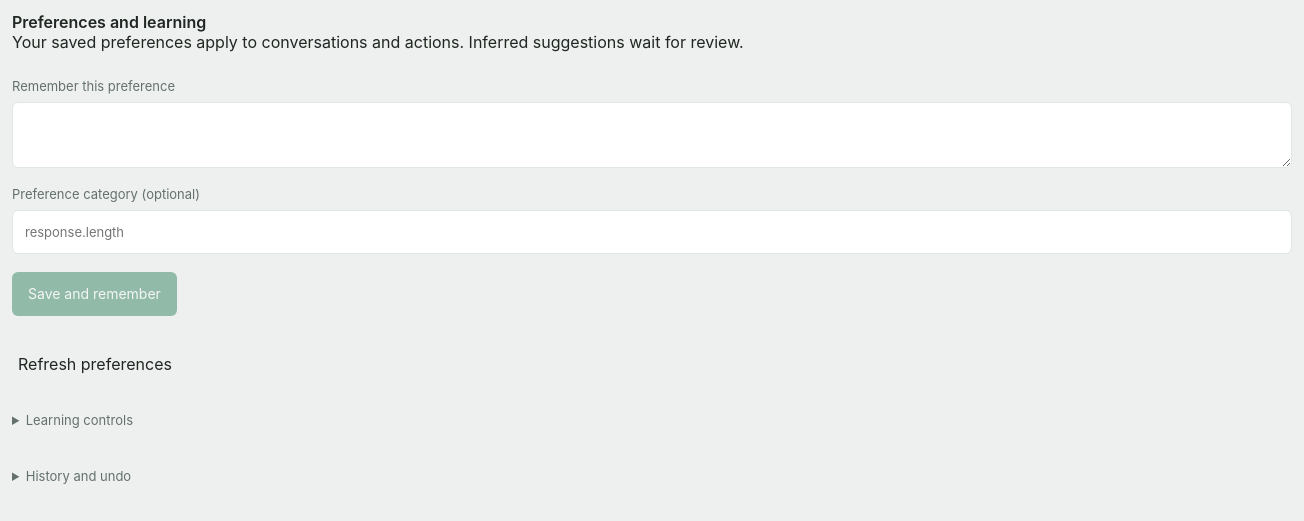
Test case: shows a recoverable save failure without losing the preference
The image size is (1304, 521).
Type "Use metric units" into the text box named "Adaptive rule". click: (652, 135)
box: x1=12 y1=102 x2=1292 y2=168
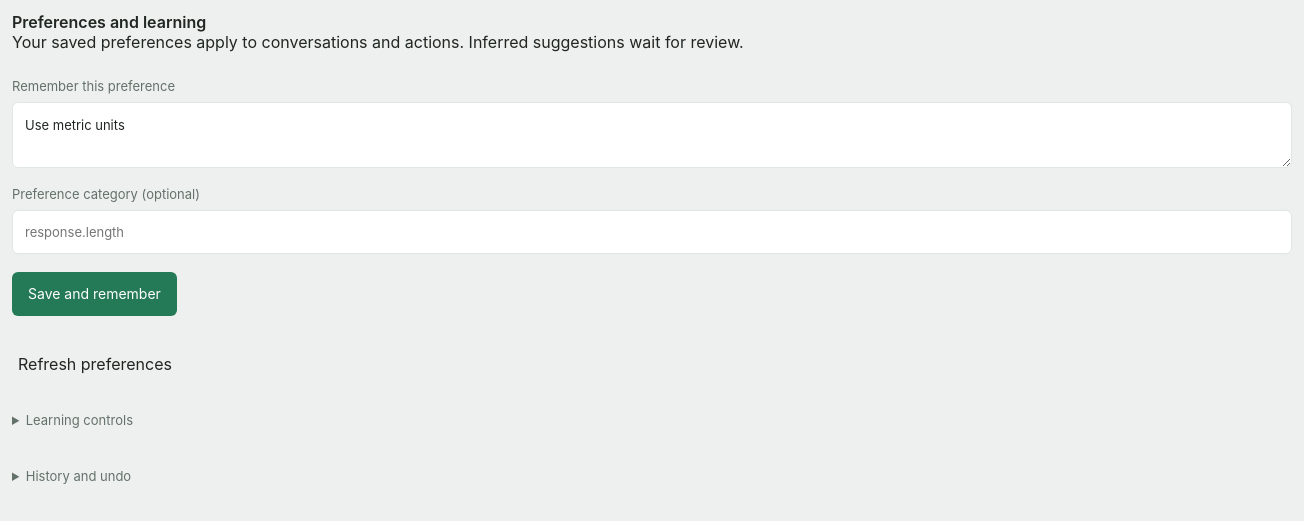
Click the button "Save and remember". click: (94, 294)
box: x1=12 y1=272 x2=177 y2=316
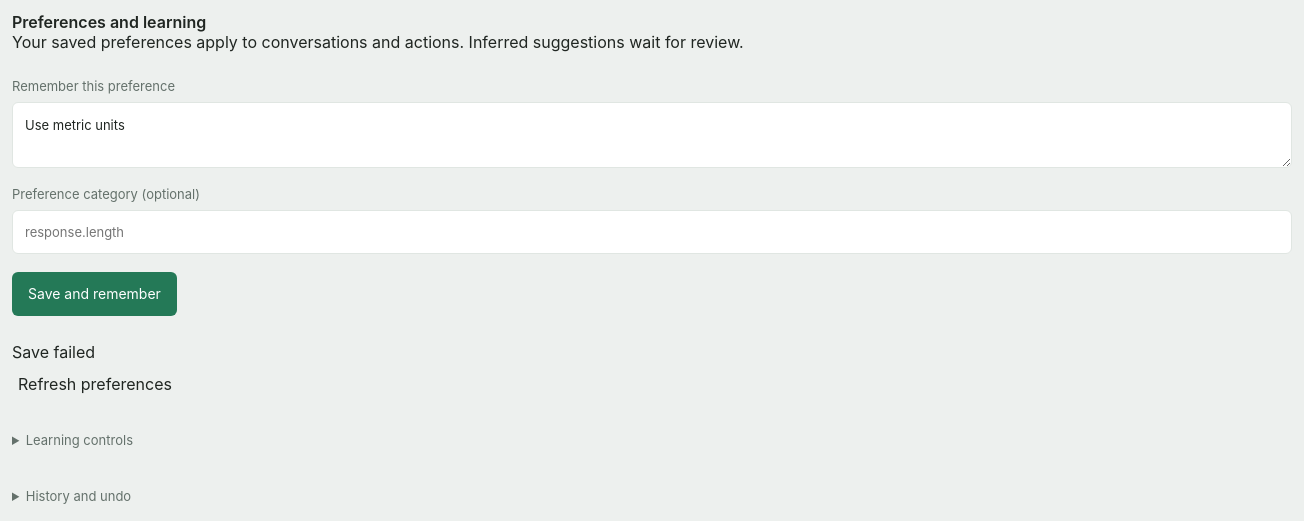
Check: the message reads "Save failed", box x1=12 y1=342 x2=95 y2=362
